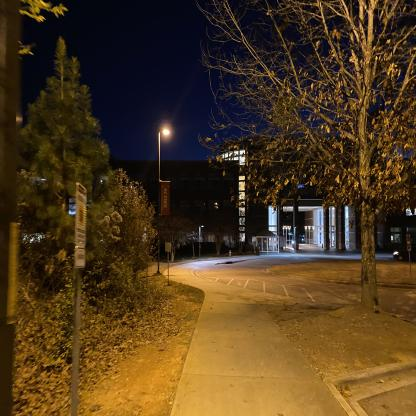eb2: (36, 142, 416, 260)
